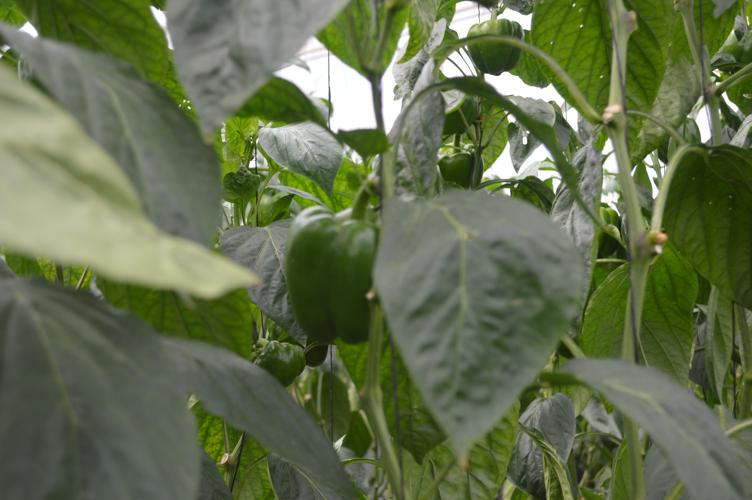BellPepper: (280, 207, 378, 343), (464, 22, 527, 77), (439, 150, 474, 191)
